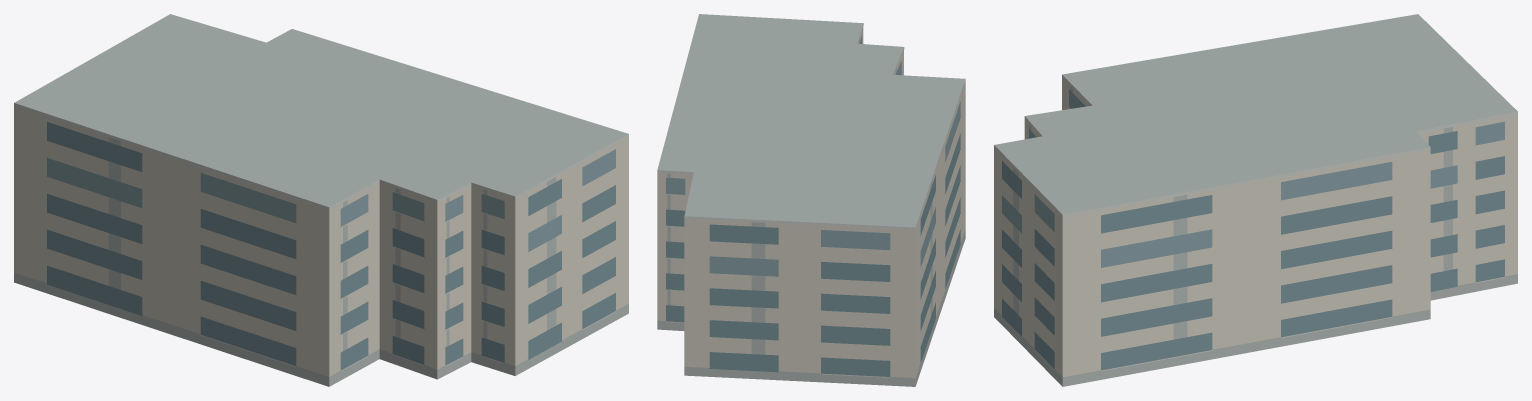
File: survey-upis-33044662.glb
3 renders of one model, left to right at view 1: azimuth 30°, elevation 25°; view 2: azimuth 150°, elevation 25°; view 3: azimuth 270°, elevation 25°, orthographic. The views are drawn at different scales.
Visible parts, largest first — view 1: survey-upis-33044662.tmp; view 2: survey-upis-33044662.tmp; view 3: survey-upis-33044662.tmp.
Boxes of the visible parts, bbox=[...] form: survey-upis-33044662.tmp: bbox=[14, 14, 628, 386]; survey-upis-33044662.tmp: bbox=[657, 14, 965, 386]; survey-upis-33044662.tmp: bbox=[994, 14, 1517, 386].
Size of the model in its own units: 38.15 by 15.25 by 42.06.
